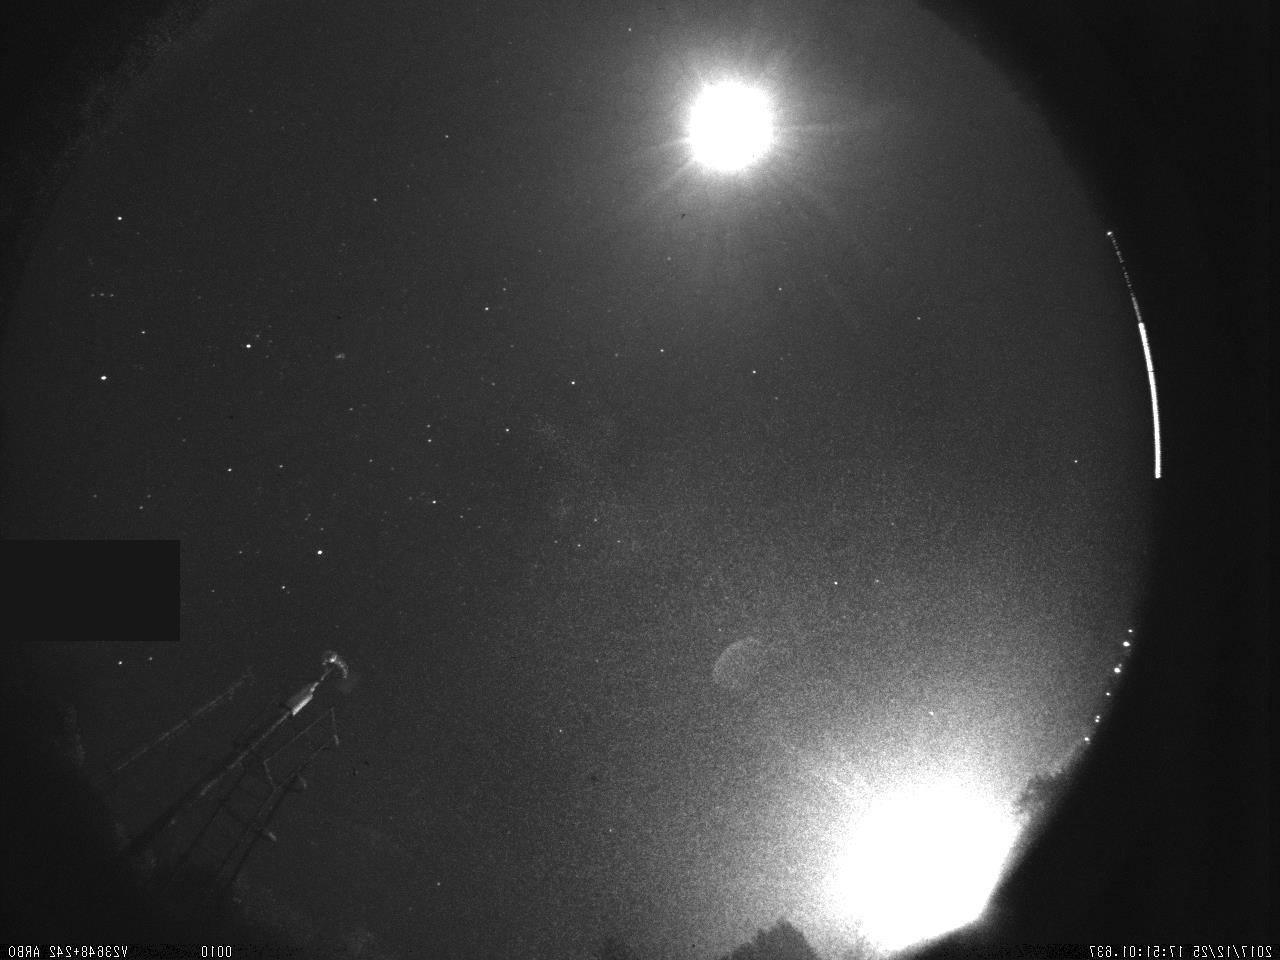meteor: (53, 547, 187, 591)
